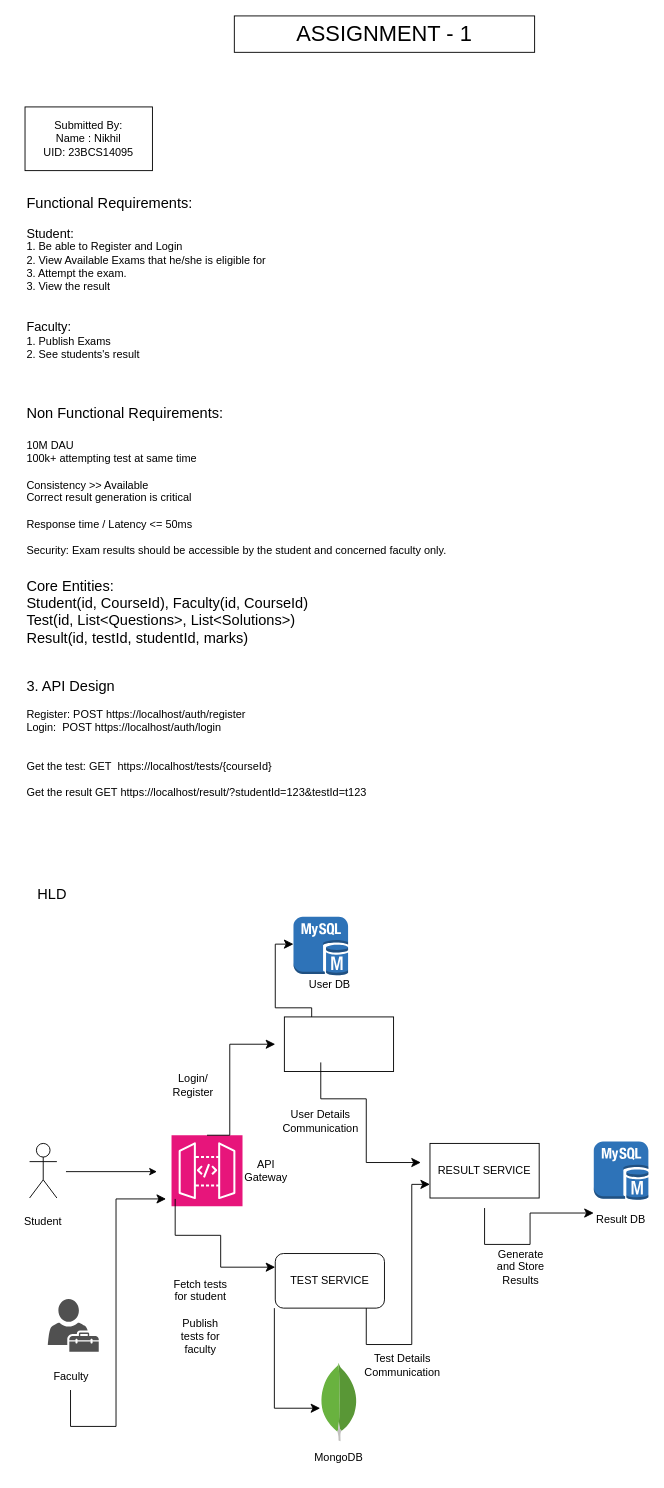
This 664x1488 diagram has some shape labels left out. The centre of each missing label's shape, as x and y in pixels:
Actor: the point at 43,1170
USER SERVICE: the point at 338,1044
